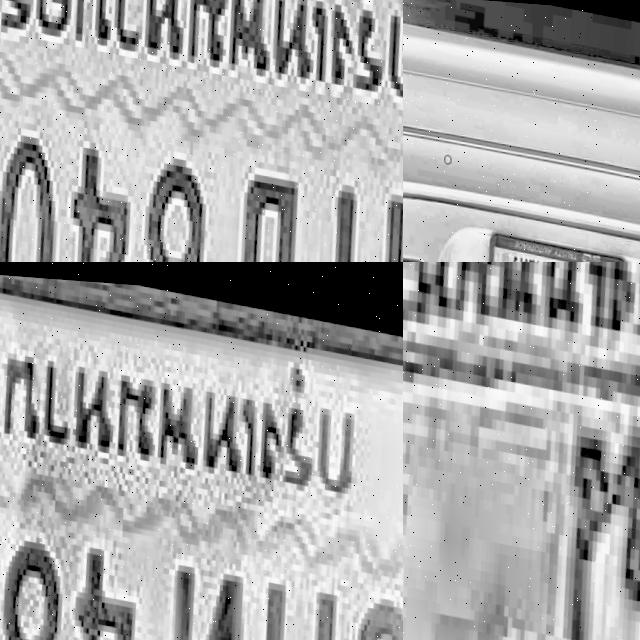license-plate: (0, 262, 403, 640), (0, 0, 403, 262), (403, 262, 640, 640), (471, 223, 627, 262)
